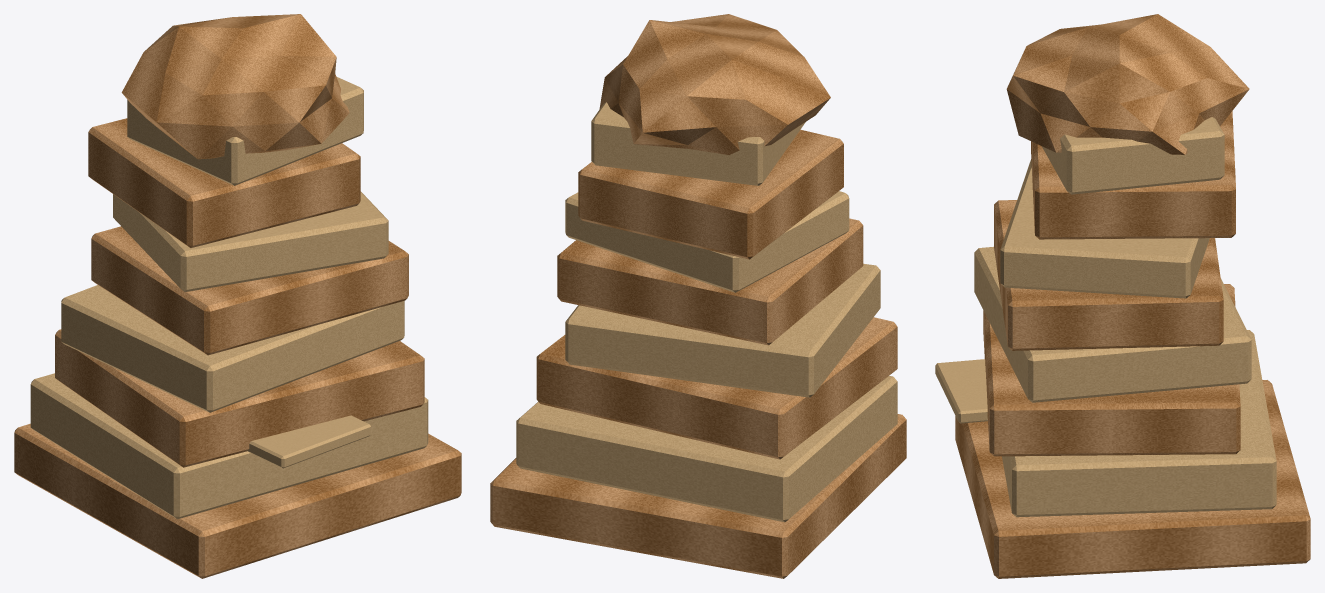
Rendered from cliff_mass.glb.
3 views of the same model, side by side, from view 1: azimuth 30°, elevation 25°; view 2: azimuth 150°, elevation 25°; view 3: azimuth 270°, elevation 25° (orthographic). The views are drawn at different scales.
Visible parts, largest first — view 1: cliff_mass_Sandstone, cliff_mass_CutStone; view 2: cliff_mass_Sandstone, cliff_mass_CutStone; view 3: cliff_mass_Sandstone, cliff_mass_CutStone.
Boxes of the visible parts, box(x1,y1,x2,y2) form: cliff_mass_Sandstone: box(14, 14, 461, 578); cliff_mass_CutStone: box(30, 76, 428, 519); cliff_mass_Sandstone: box(490, 14, 906, 578); cliff_mass_CutStone: box(516, 102, 897, 522); cliff_mass_Sandstone: box(955, 14, 1310, 578); cliff_mass_CutStone: box(935, 117, 1276, 517).
Size of the model in its own units: 4.86 by 6.85 by 4.98.
2 materials, 2 textured.
